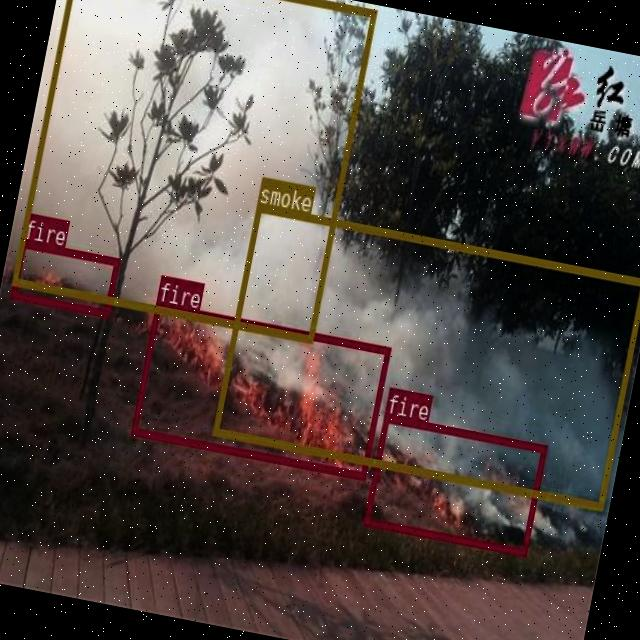fire: (130, 302, 390, 478), (364, 412, 546, 554), (9, 238, 120, 316)
smoke: (211, 202, 640, 509), (11, 0, 377, 341)
